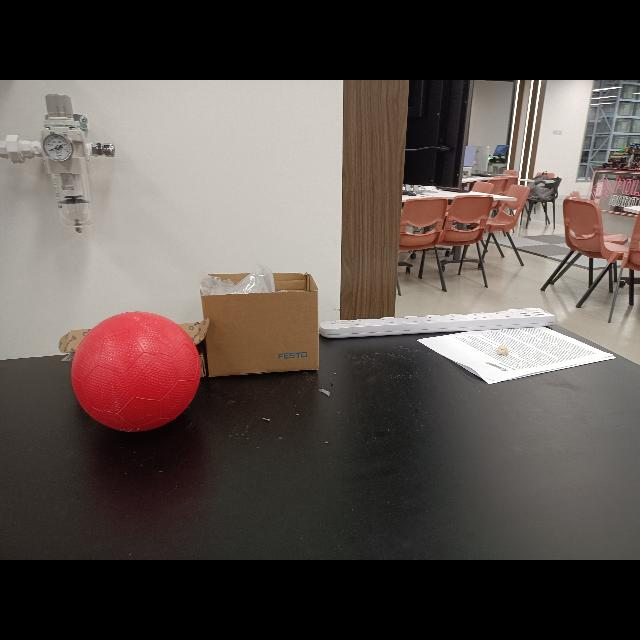R: (72, 308, 202, 432)
